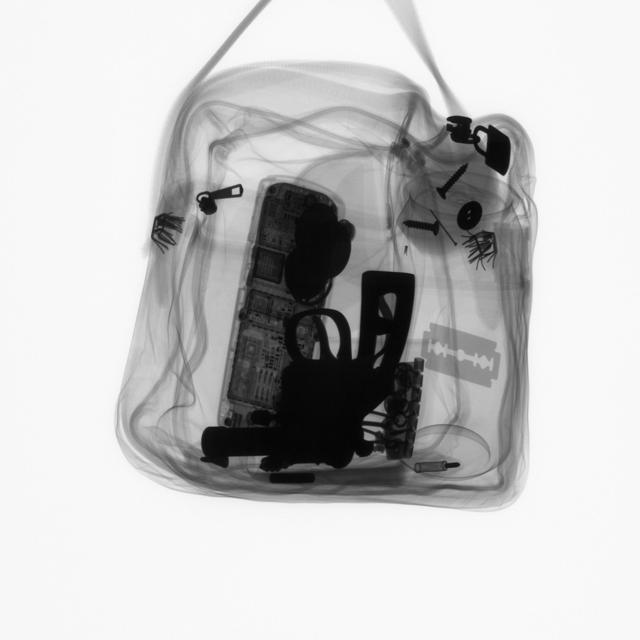gun: (196, 266, 418, 469)
razor: (422, 311, 504, 390)
